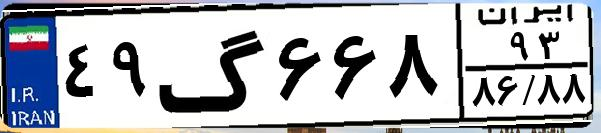3: (537, 27, 568, 80)
4: (57, 26, 110, 100)
6: (270, 28, 330, 110), (330, 28, 385, 110), (495, 70, 520, 125)
8: (385, 28, 445, 110), (560, 70, 590, 125), (470, 70, 495, 125), (535, 70, 560, 125)
9: (110, 28, 156, 98), (508, 27, 537, 80)
گ: (156, 12, 270, 120)
